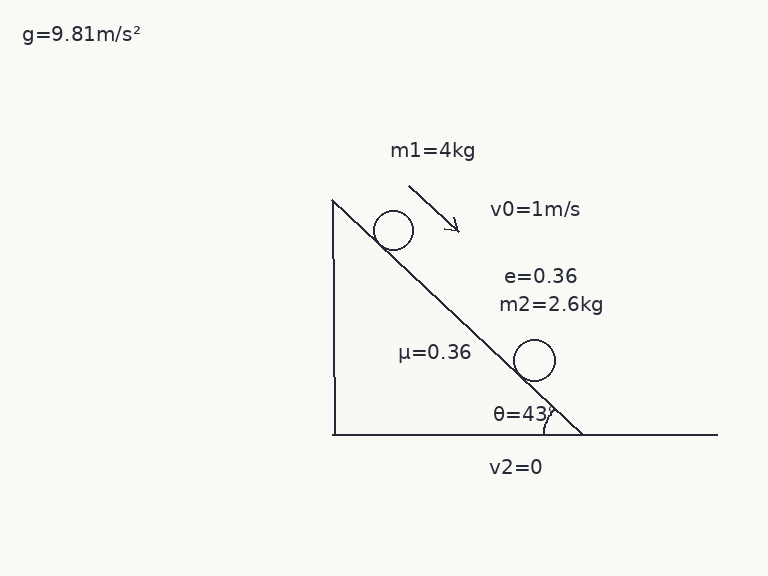ball: (511, 337, 557, 383), (371, 208, 415, 252)
ramp: (330, 198, 586, 437)
